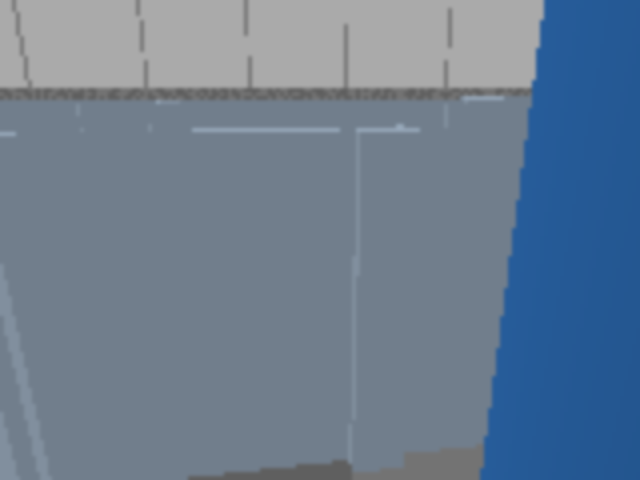obstacle: (499, 172, 554, 207)
